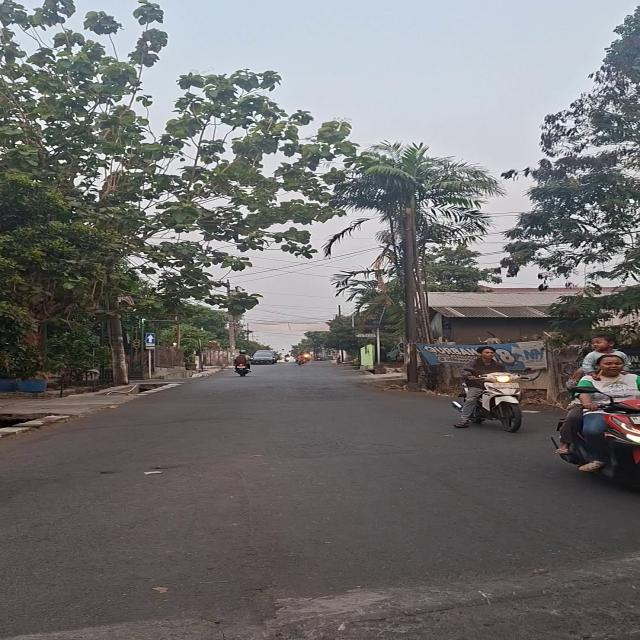WithHelmet: (232, 350, 254, 372), (294, 351, 305, 362)
WithoutHelmet: (572, 332, 640, 498), (450, 347, 538, 438)
